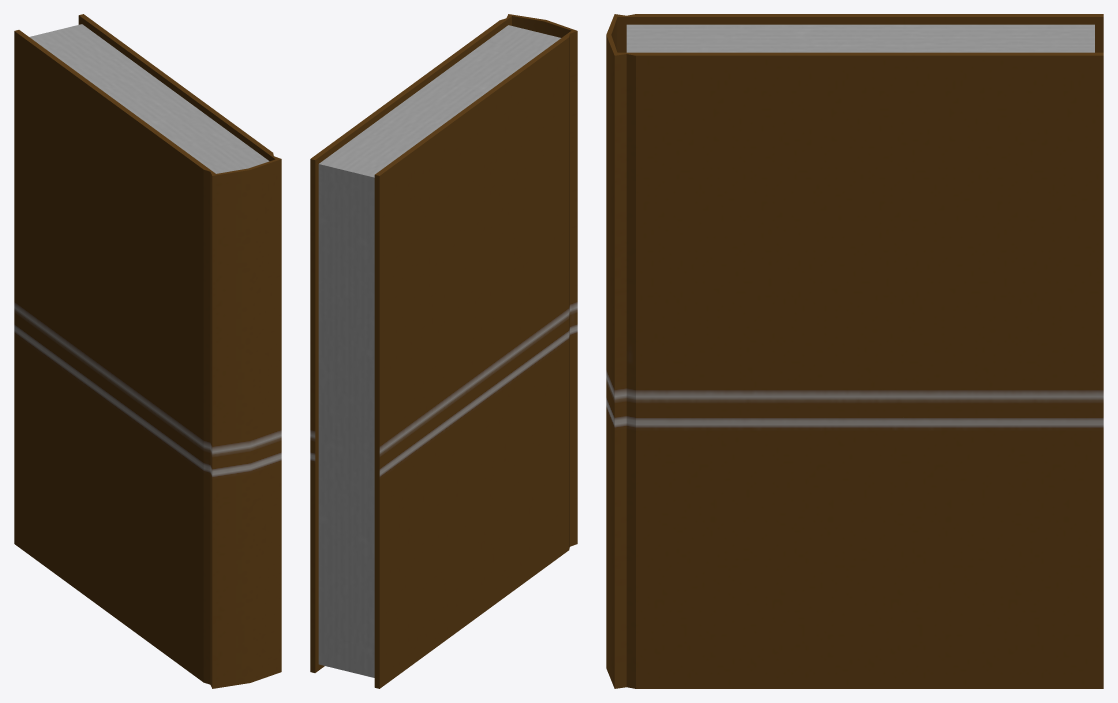
File: Prop_Books_4.fbx
3 views of the same model, side by side, from view 1: azimuth 30°, elevation 25°; view 2: azimuth 150°, elevation 25°; view 3: azimuth 270°, elevation 25° (orthographic). The views are drawn at different scales.
Parts seen in each view (by area): view 1: Prop_Books_4; view 2: Prop_Books_4; view 3: Prop_Books_4.
Boxes of the visible parts, x1,y1,x2,y2 form: Prop_Books_4: (14, 14, 281, 688); Prop_Books_4: (310, 14, 577, 688); Prop_Books_4: (606, 14, 1103, 688).
Bounding box in the file's own units: 0.0251 × 0.177 × 0.1261.
